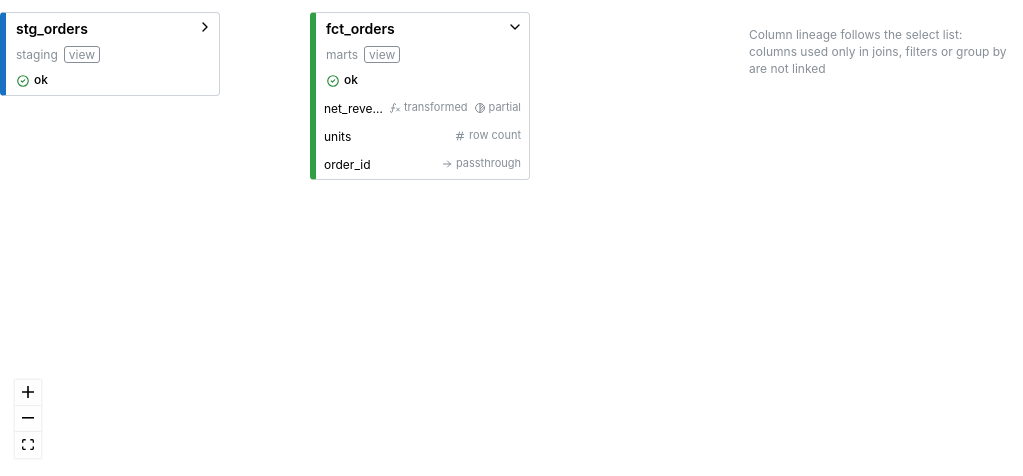
Test case: GraphNode › a focus shows only the related columns of a node the user had opened, and gives the user's expansion back
The width and height of the screenshot is (1023, 476).
What coordinates should you click on to do the following:
click the button "net_revenue transformed partial"
I would click on:
 (422, 109)
Its box is [316,95,529,123].
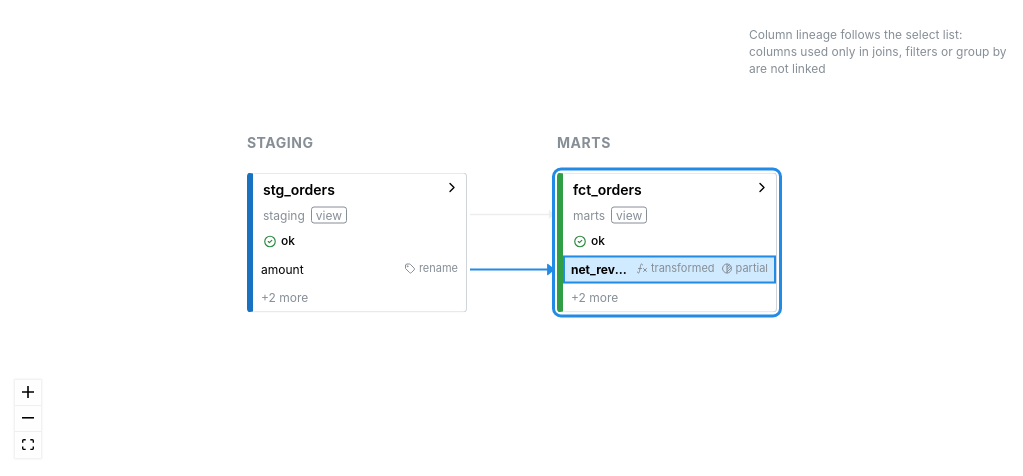
Expected: the button "units" is gone
Expected: the 2nd button "+2 more" is shown, [563,284,776,312]
What coordinates should you click on to do the following:
click the element with class "react-flow__pane"
I would click on:
 (512, 228)
Its box is [247,134,777,322].
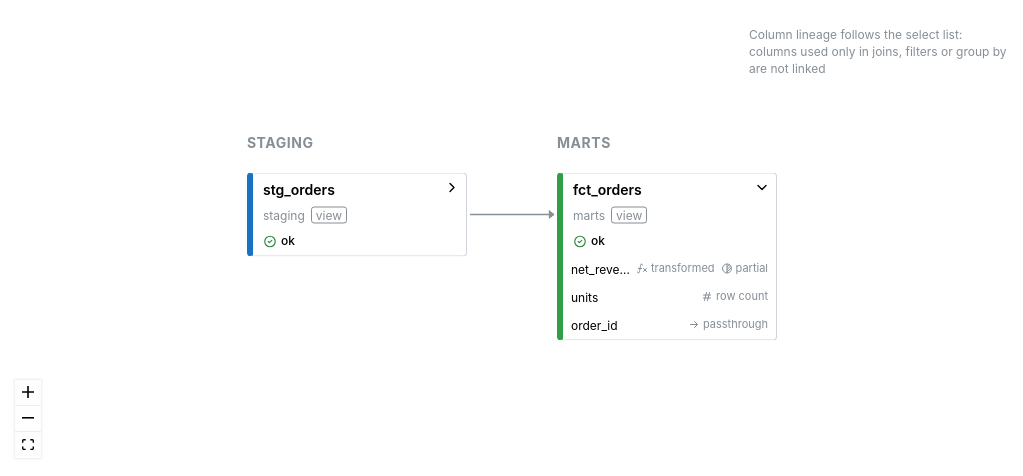
Expected: the button "units row count" is shown, [563,284,776,312]
Expected: the button "order_id passthrough" is shown, [563,312,776,340]
